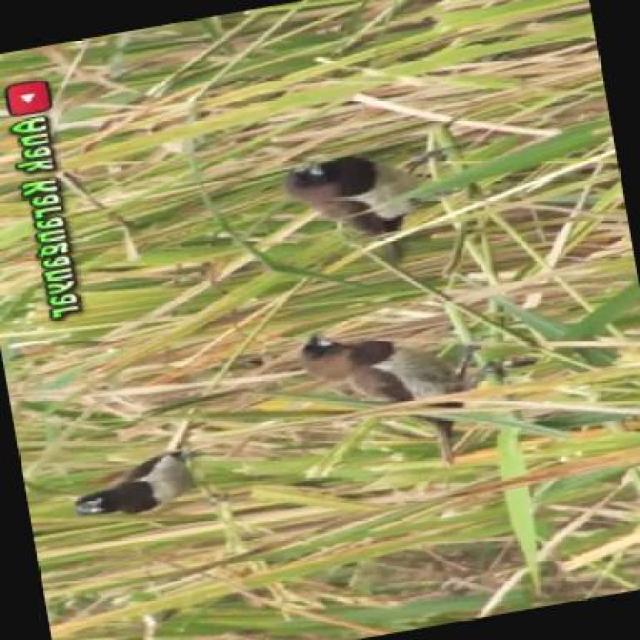Bird: (283, 320, 492, 498), (268, 148, 422, 256), (65, 439, 209, 535)
